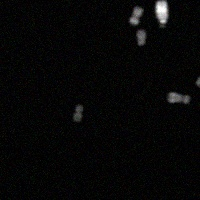chromosome: (155, 1, 169, 23), (129, 7, 143, 26), (168, 92, 189, 104), (195, 48, 200, 88), (73, 105, 82, 122), (136, 29, 146, 44)
